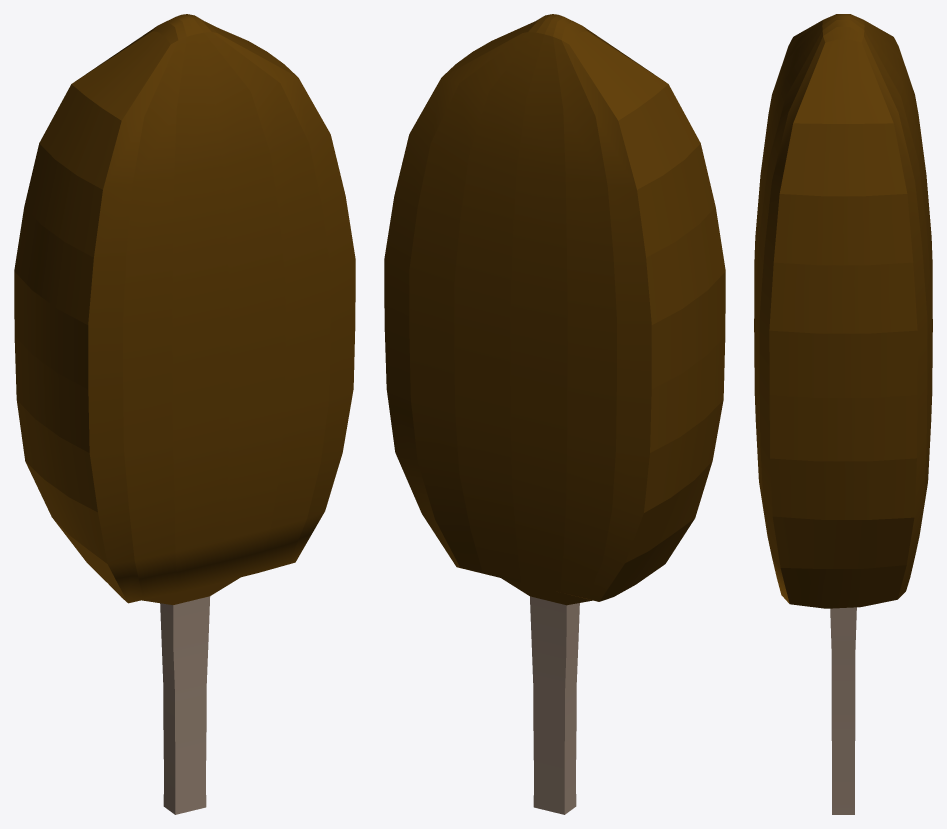
Rendered from Icecream_cone.fbx.
3 renders of one model, left to right at view 1: azimuth 30°, elevation 25°; view 2: azimuth 150°, elevation 25°; view 3: azimuth 270°, elevation 25°, orthographic.
Visible parts, largest first — view 1: pCube1; view 2: pCube1; view 3: pCube1.
Boxes of the visible parts, x1=… form: pCube1: x1=14, y1=14, x2=355, y2=814; pCube1: x1=384, y1=14, x2=725, y2=814; pCube1: x1=754, y1=14, x2=932, y2=814.
Bounding box in the file's own units: 0.7355 × 1.98 × 0.4061.
